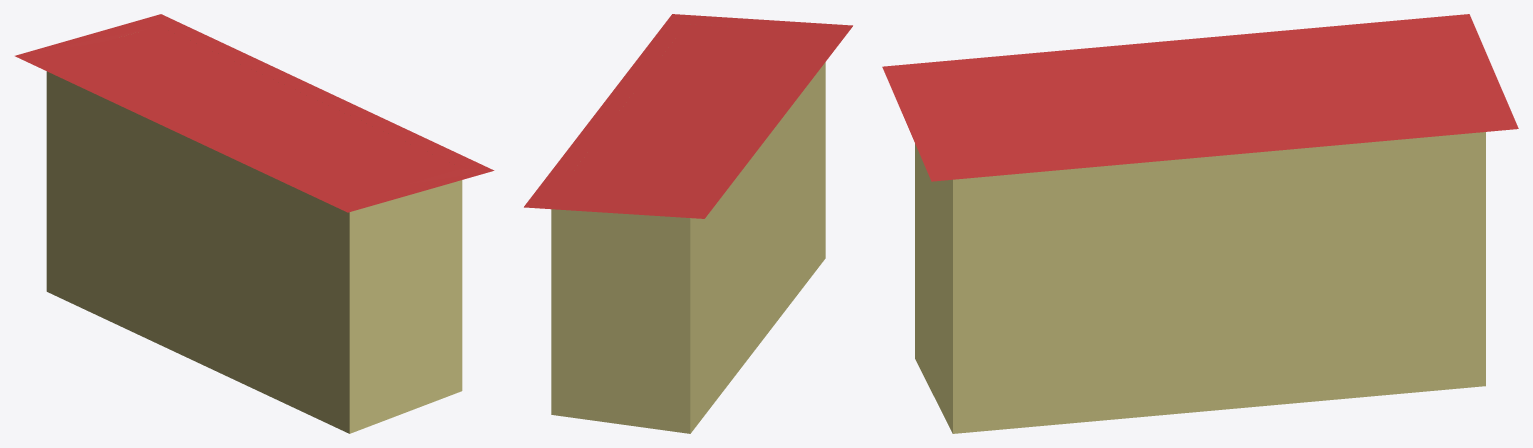
The picture shows the model from 3 angles, left to right: view 1: azimuth 30°, elevation 25°; view 2: azimuth 150°, elevation 25°; view 3: azimuth 270°, elevation 25°; orthographic projection. The views are drawn at different scales.
Bounding box in the file's own units: 6.47 × 11.52 × 5.65.
